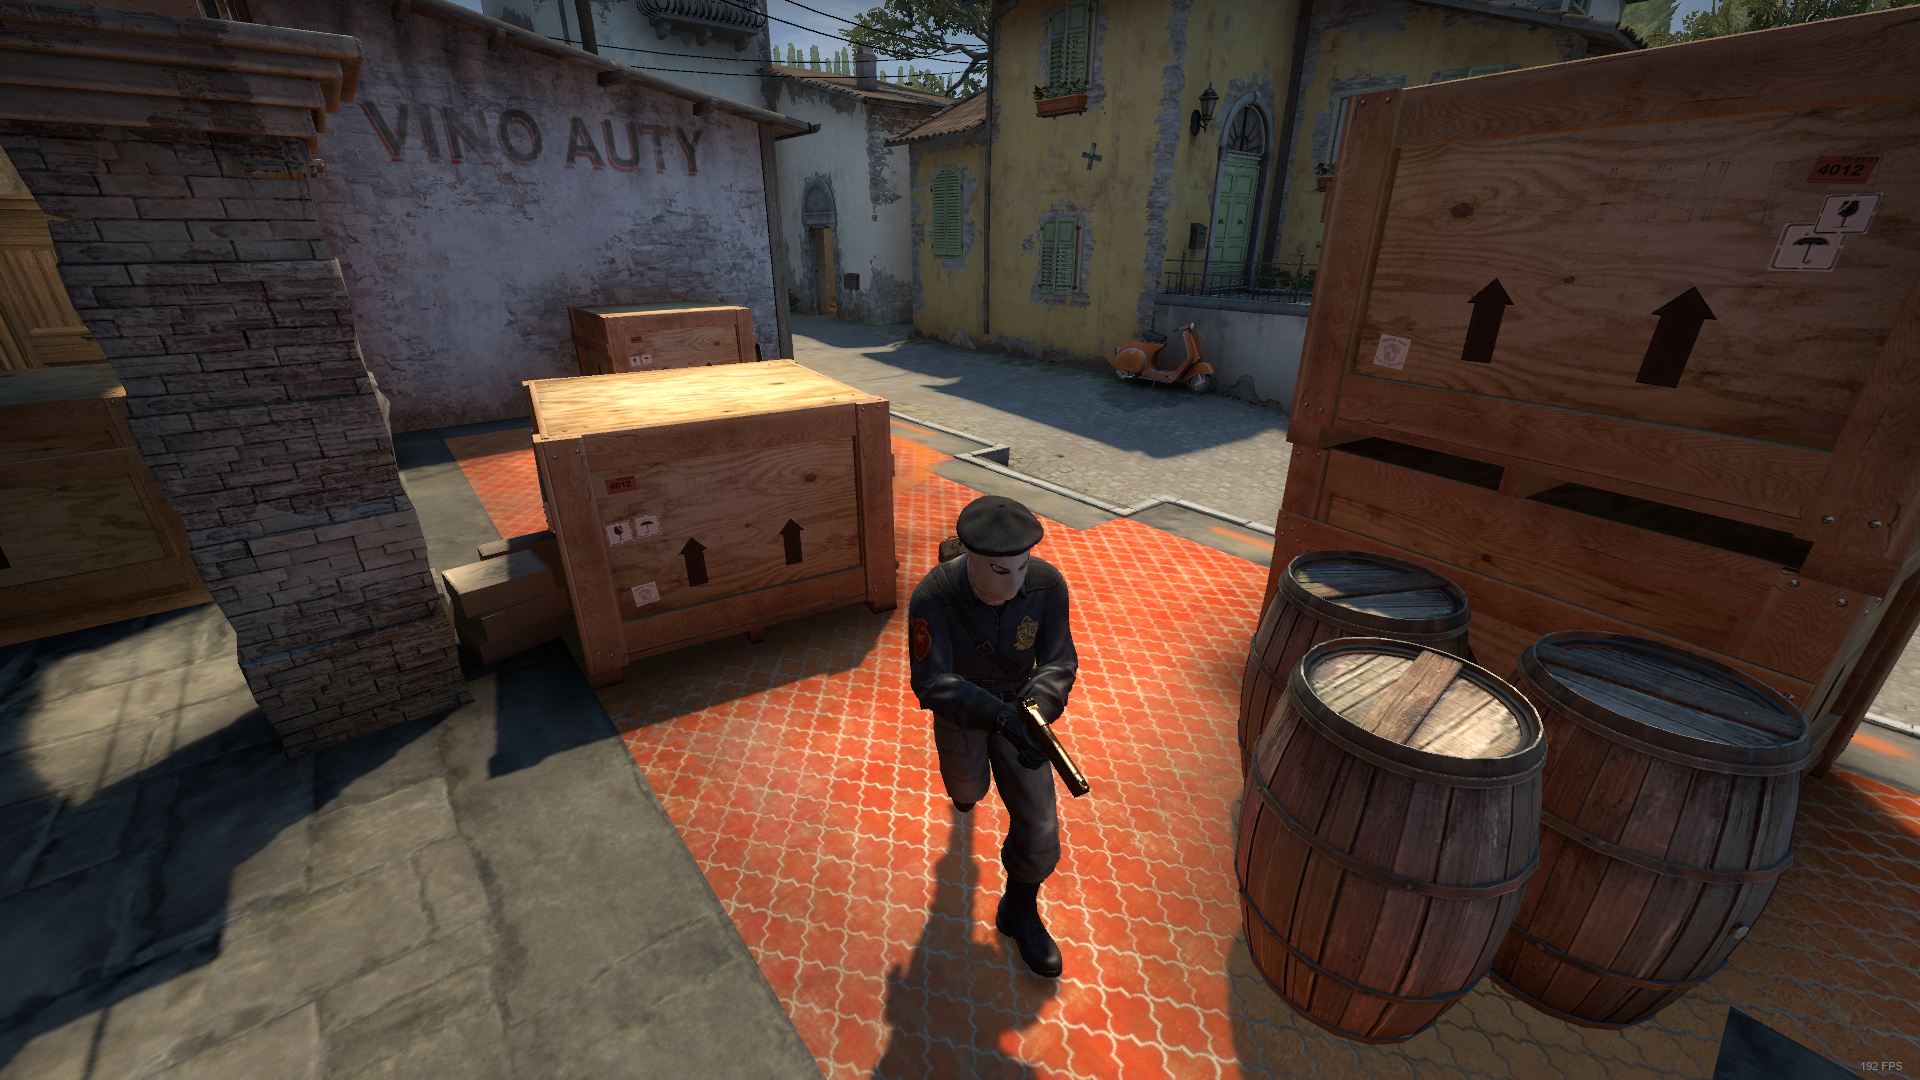t: (877, 487, 1118, 989)
